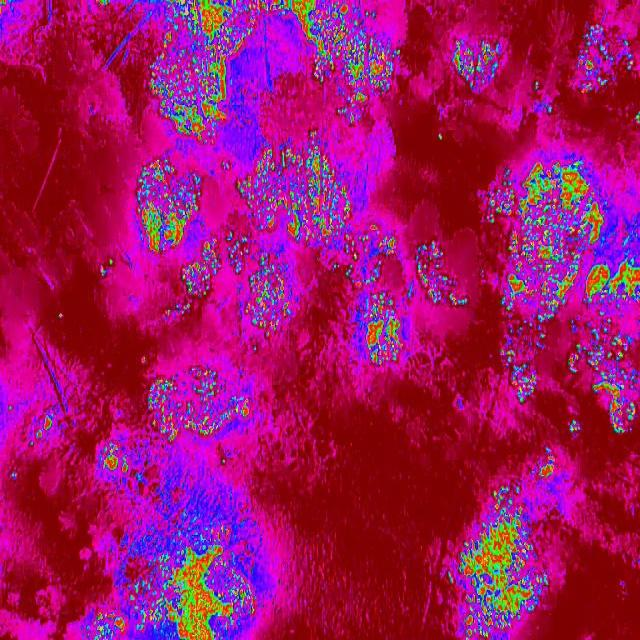fire: (480, 156, 621, 312), (127, 0, 248, 141), (128, 505, 252, 640), (455, 484, 552, 640), (294, 0, 398, 120), (246, 129, 356, 240), (566, 314, 640, 436), (147, 364, 254, 442), (133, 154, 203, 255), (247, 248, 296, 351), (497, 312, 553, 400), (575, 24, 634, 91), (414, 239, 470, 307), (358, 290, 404, 365), (330, 241, 396, 289), (452, 38, 505, 88), (621, 212, 640, 302), (95, 442, 134, 482), (246, 0, 292, 32), (80, 610, 129, 640), (226, 232, 247, 277), (202, 239, 218, 297), (28, 412, 55, 446), (530, 446, 556, 478), (180, 262, 203, 296), (359, 222, 393, 239), (97, 256, 113, 276), (172, 302, 191, 316), (236, 176, 246, 202), (444, 567, 455, 585), (536, 104, 554, 115), (94, 0, 112, 8), (455, 398, 464, 412), (0, 0, 12, 10), (6, 401, 14, 415), (634, 109, 640, 126), (56, 310, 66, 320), (221, 159, 230, 170), (532, 78, 539, 92), (10, 469, 18, 480), (437, 132, 443, 142), (221, 456, 228, 464), (165, 308, 171, 316)
